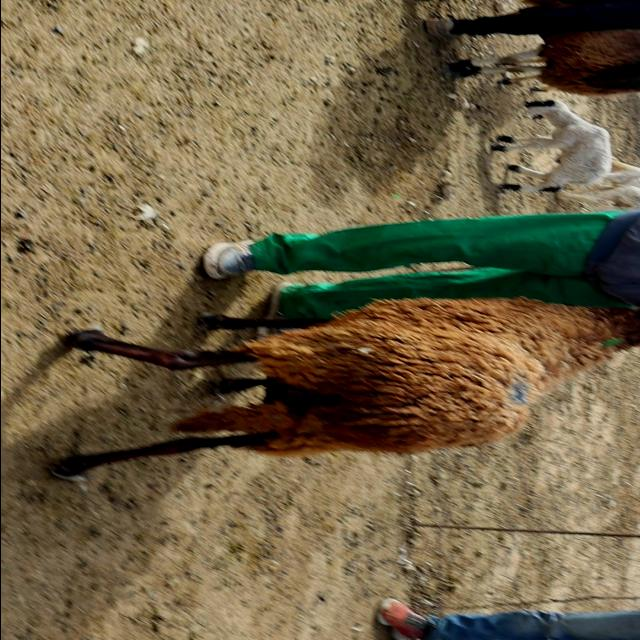Score_1: (53, 297, 640, 479)
